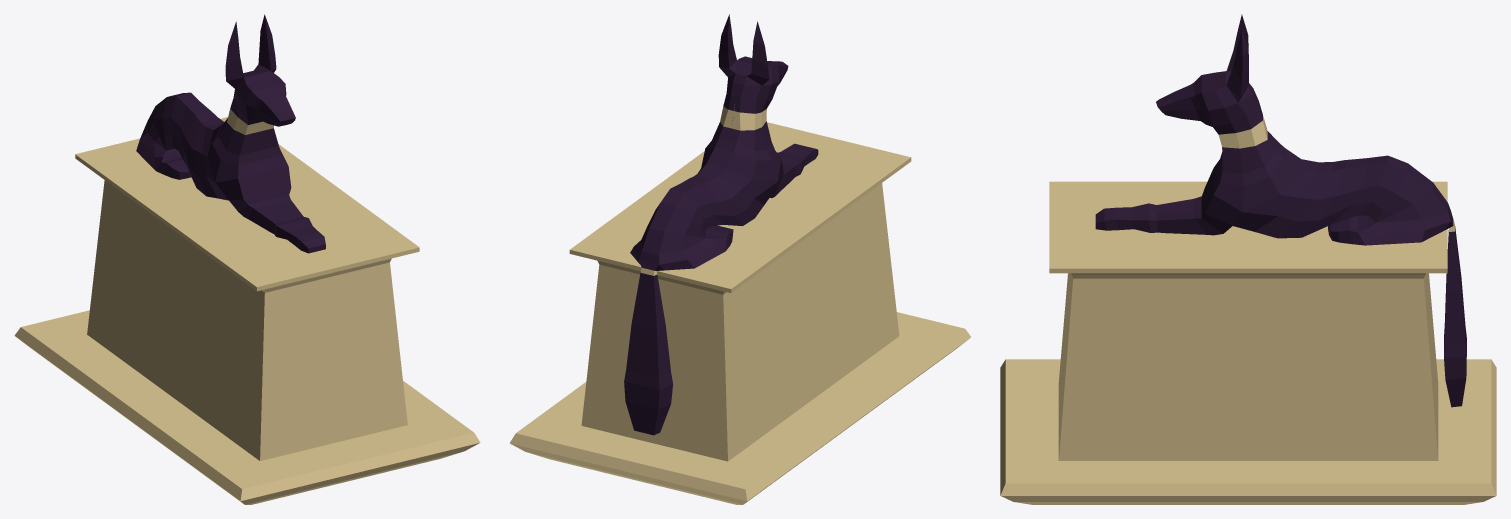
Rendered from AnuChest.fbx.
3 renders of one model, left to right at view 1: azimuth 30°, elevation 25°; view 2: azimuth 150°, elevation 25°; view 3: azimuth 270°, elevation 25°, orthographic. The views are drawn at different scales.
Visible parts, largest first — view 1: Cube; view 2: Cube; view 3: Cube.
Part boxes in pixels (bbox=[...]): Cube: bbox=[14, 14, 480, 504]; Cube: bbox=[510, 14, 970, 504]; Cube: bbox=[1000, 14, 1496, 504].
Bounding box in the file's own units: 78.73 × 124 × 129.
